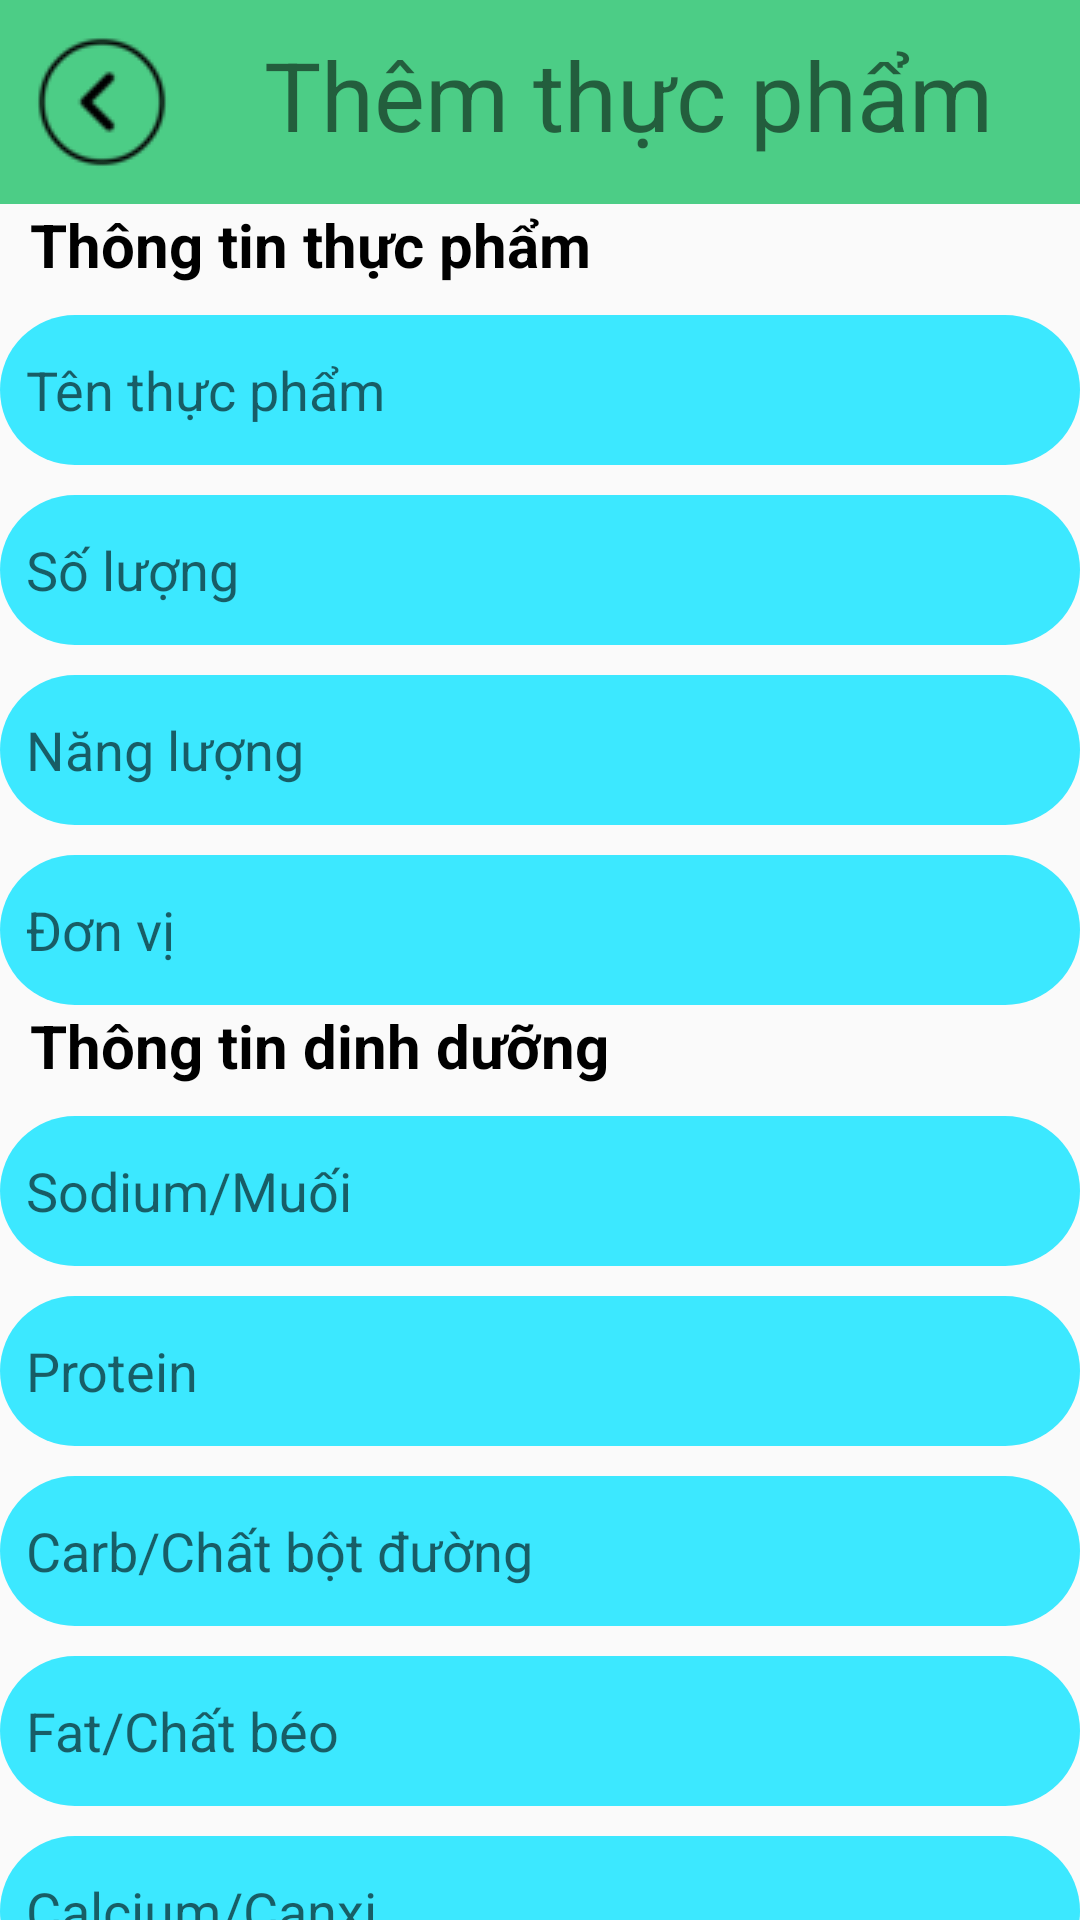

Named icons in this screenshot (1080×1920) and their bounding boxes, {"x1": x1, "y1": y1, "x2": x2, "y2": y2}:
back: {"x1": 38, "y1": 38, "x2": 166, "y2": 166}
